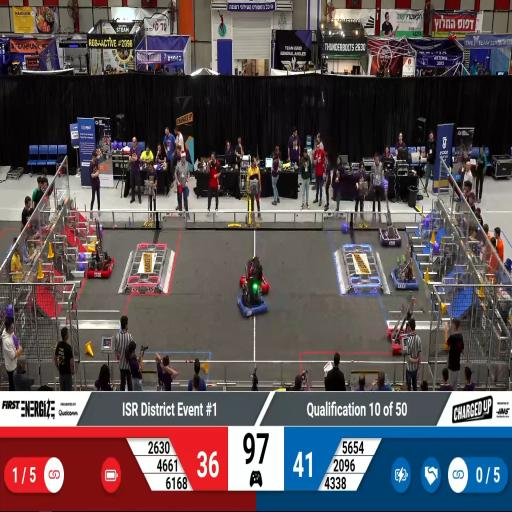robot: (386, 317, 419, 359), (238, 259, 270, 297), (236, 287, 268, 320), (87, 244, 114, 282), (393, 256, 419, 290), (379, 215, 403, 245)
